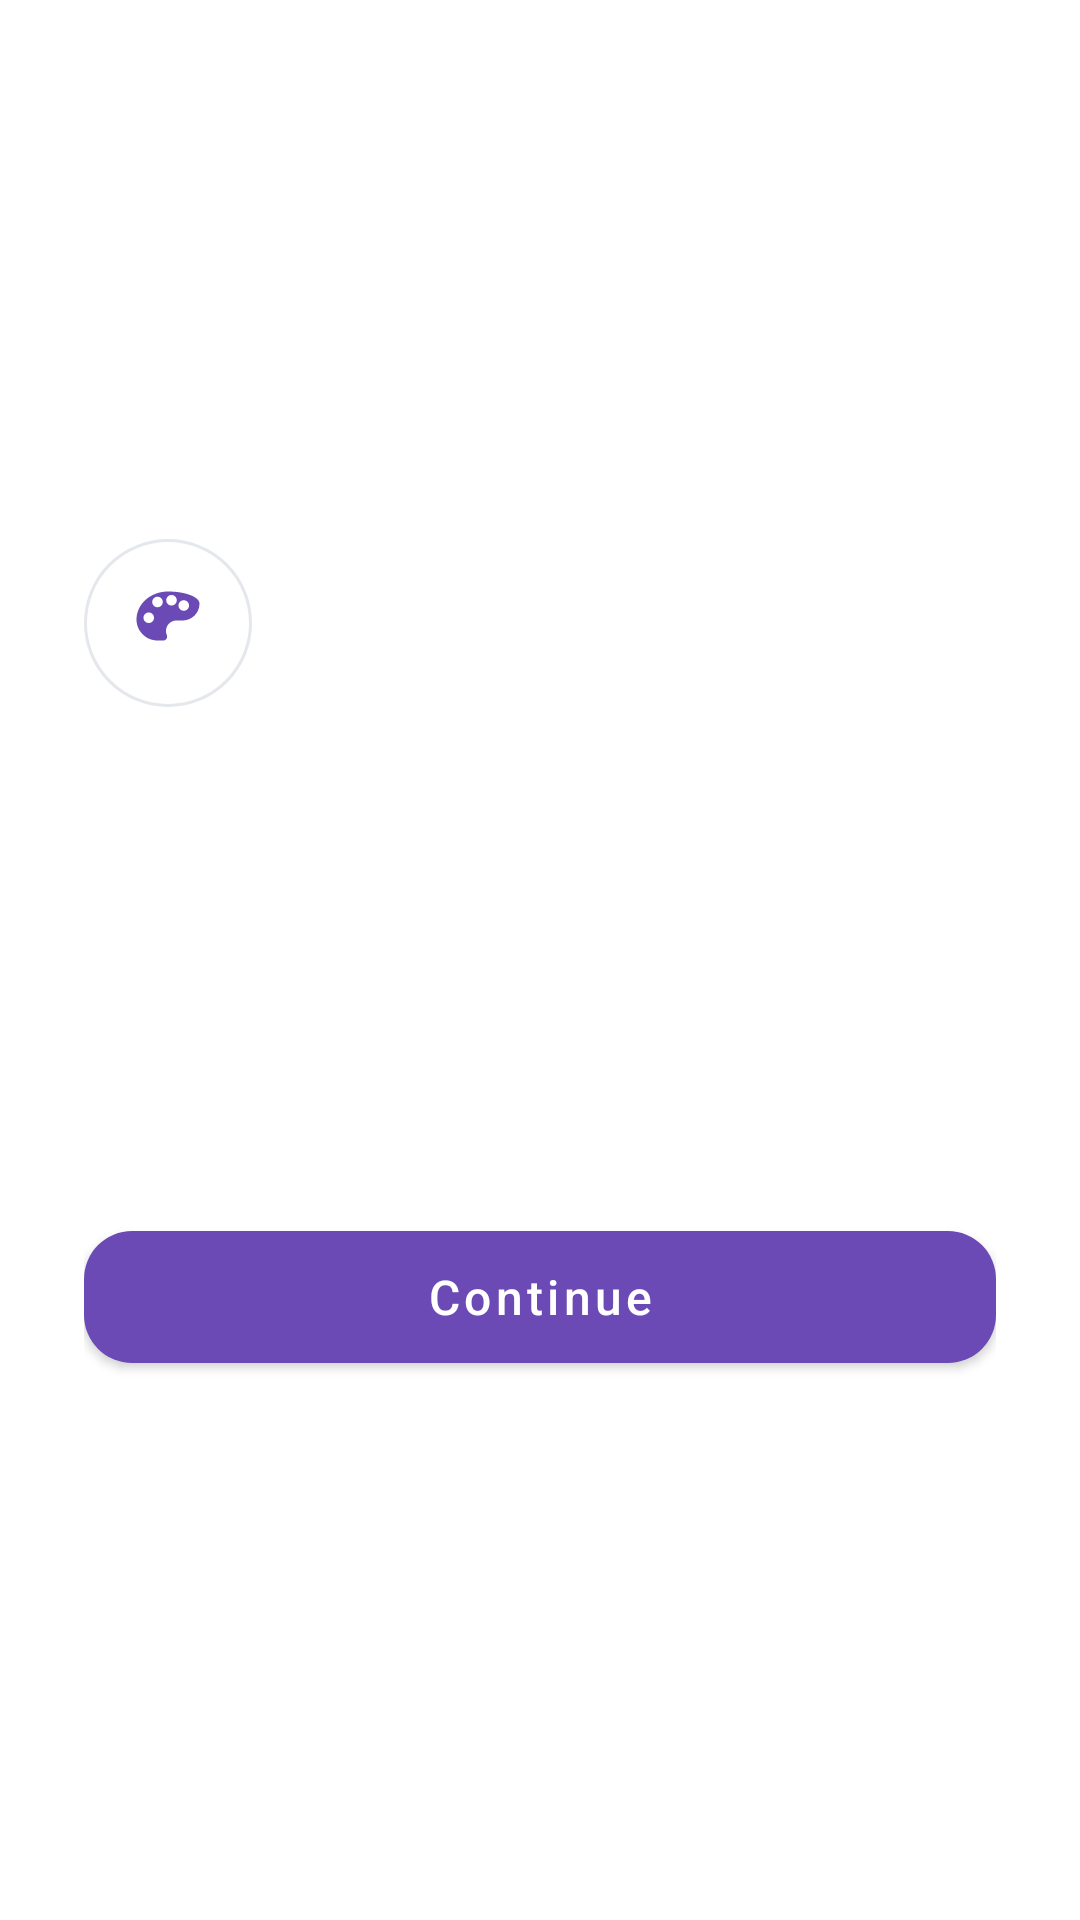

Screen size 1080px×1920px. Icon name, then its center in pixels as point (x, y):
palette modern: point (168, 623)
